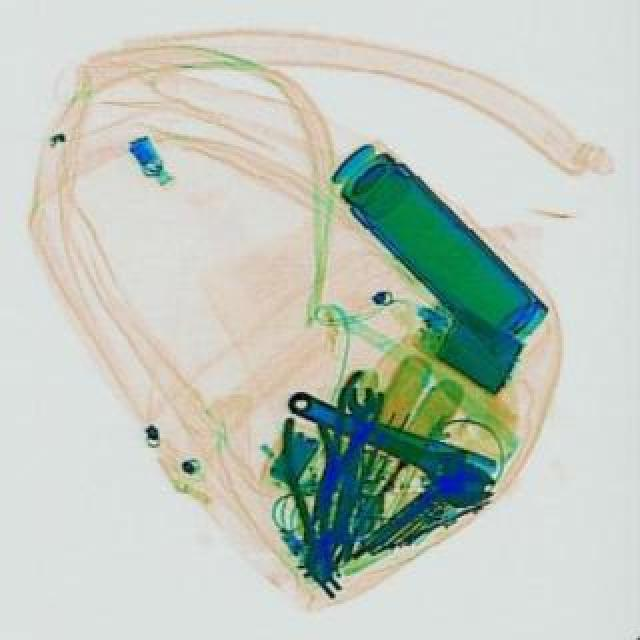scissors: (280, 370, 508, 514)
wrench: (302, 366, 398, 504), (282, 412, 346, 580)
